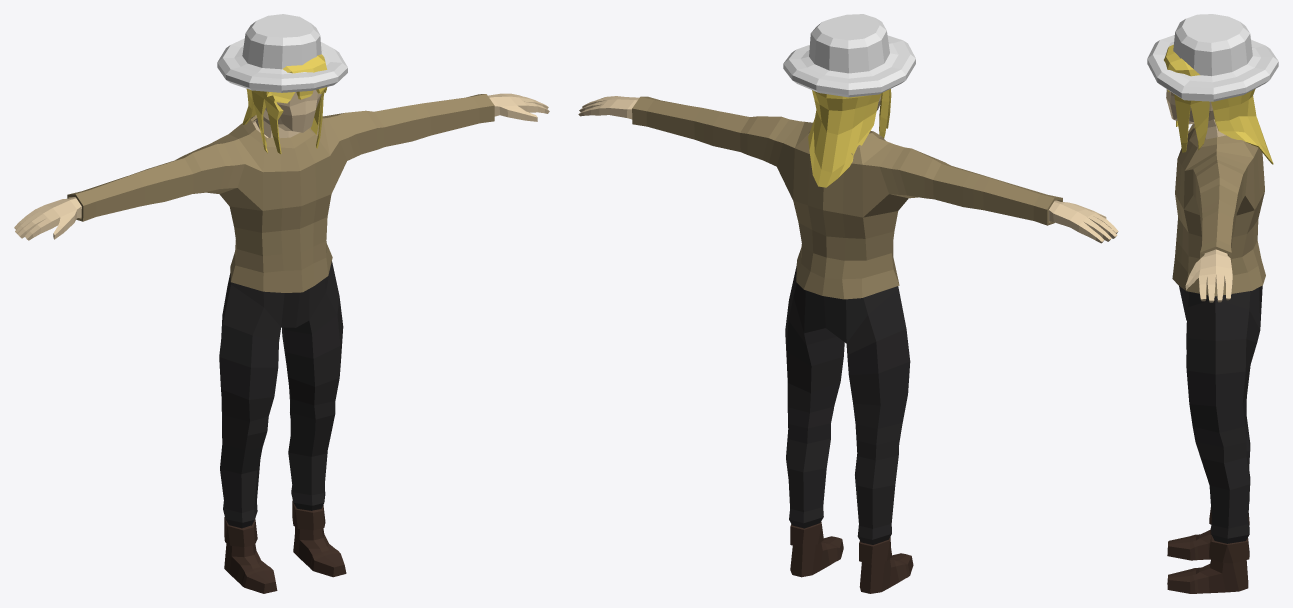
The model's file is character-clothes.fbx.
The picture shows the model from 3 angles, left to right: view 1: azimuth 30°, elevation 25°; view 2: azimuth 150°, elevation 25°; view 3: azimuth 270°, elevation 25°; orthographic projection.
Visible parts, largest first — view 1: shirt, pants, Hat, boots, body, hair, face; view 2: shirt, pants, Hat, hair, boots, body; view 3: pants, shirt, Hat, boots, hair, body, face.
Part boxes in pixels (x1,y1,x2,y2): shirt: (67, 94, 494, 292); pants: (219, 261, 343, 528); Hat: (217, 14, 347, 92); boots: (224, 500, 346, 593); body: (14, 93, 549, 240); hair: (242, 54, 327, 154); face: (265, 90, 321, 132); shirt: (632, 96, 1062, 299); pants: (785, 266, 910, 544); Hat: (783, 14, 915, 97); hair: (808, 89, 891, 187); boots: (790, 521, 913, 593); body: (578, 95, 1118, 243); pants: (1179, 285, 1262, 543); shirt: (1172, 123, 1265, 296); Hat: (1147, 14, 1278, 101); boots: (1167, 507, 1249, 593); hair: (1164, 44, 1273, 164); body: (1185, 101, 1232, 302); face: (1166, 89, 1193, 123).
Size of the model in its own units: 198 by 195 by 42.5.
